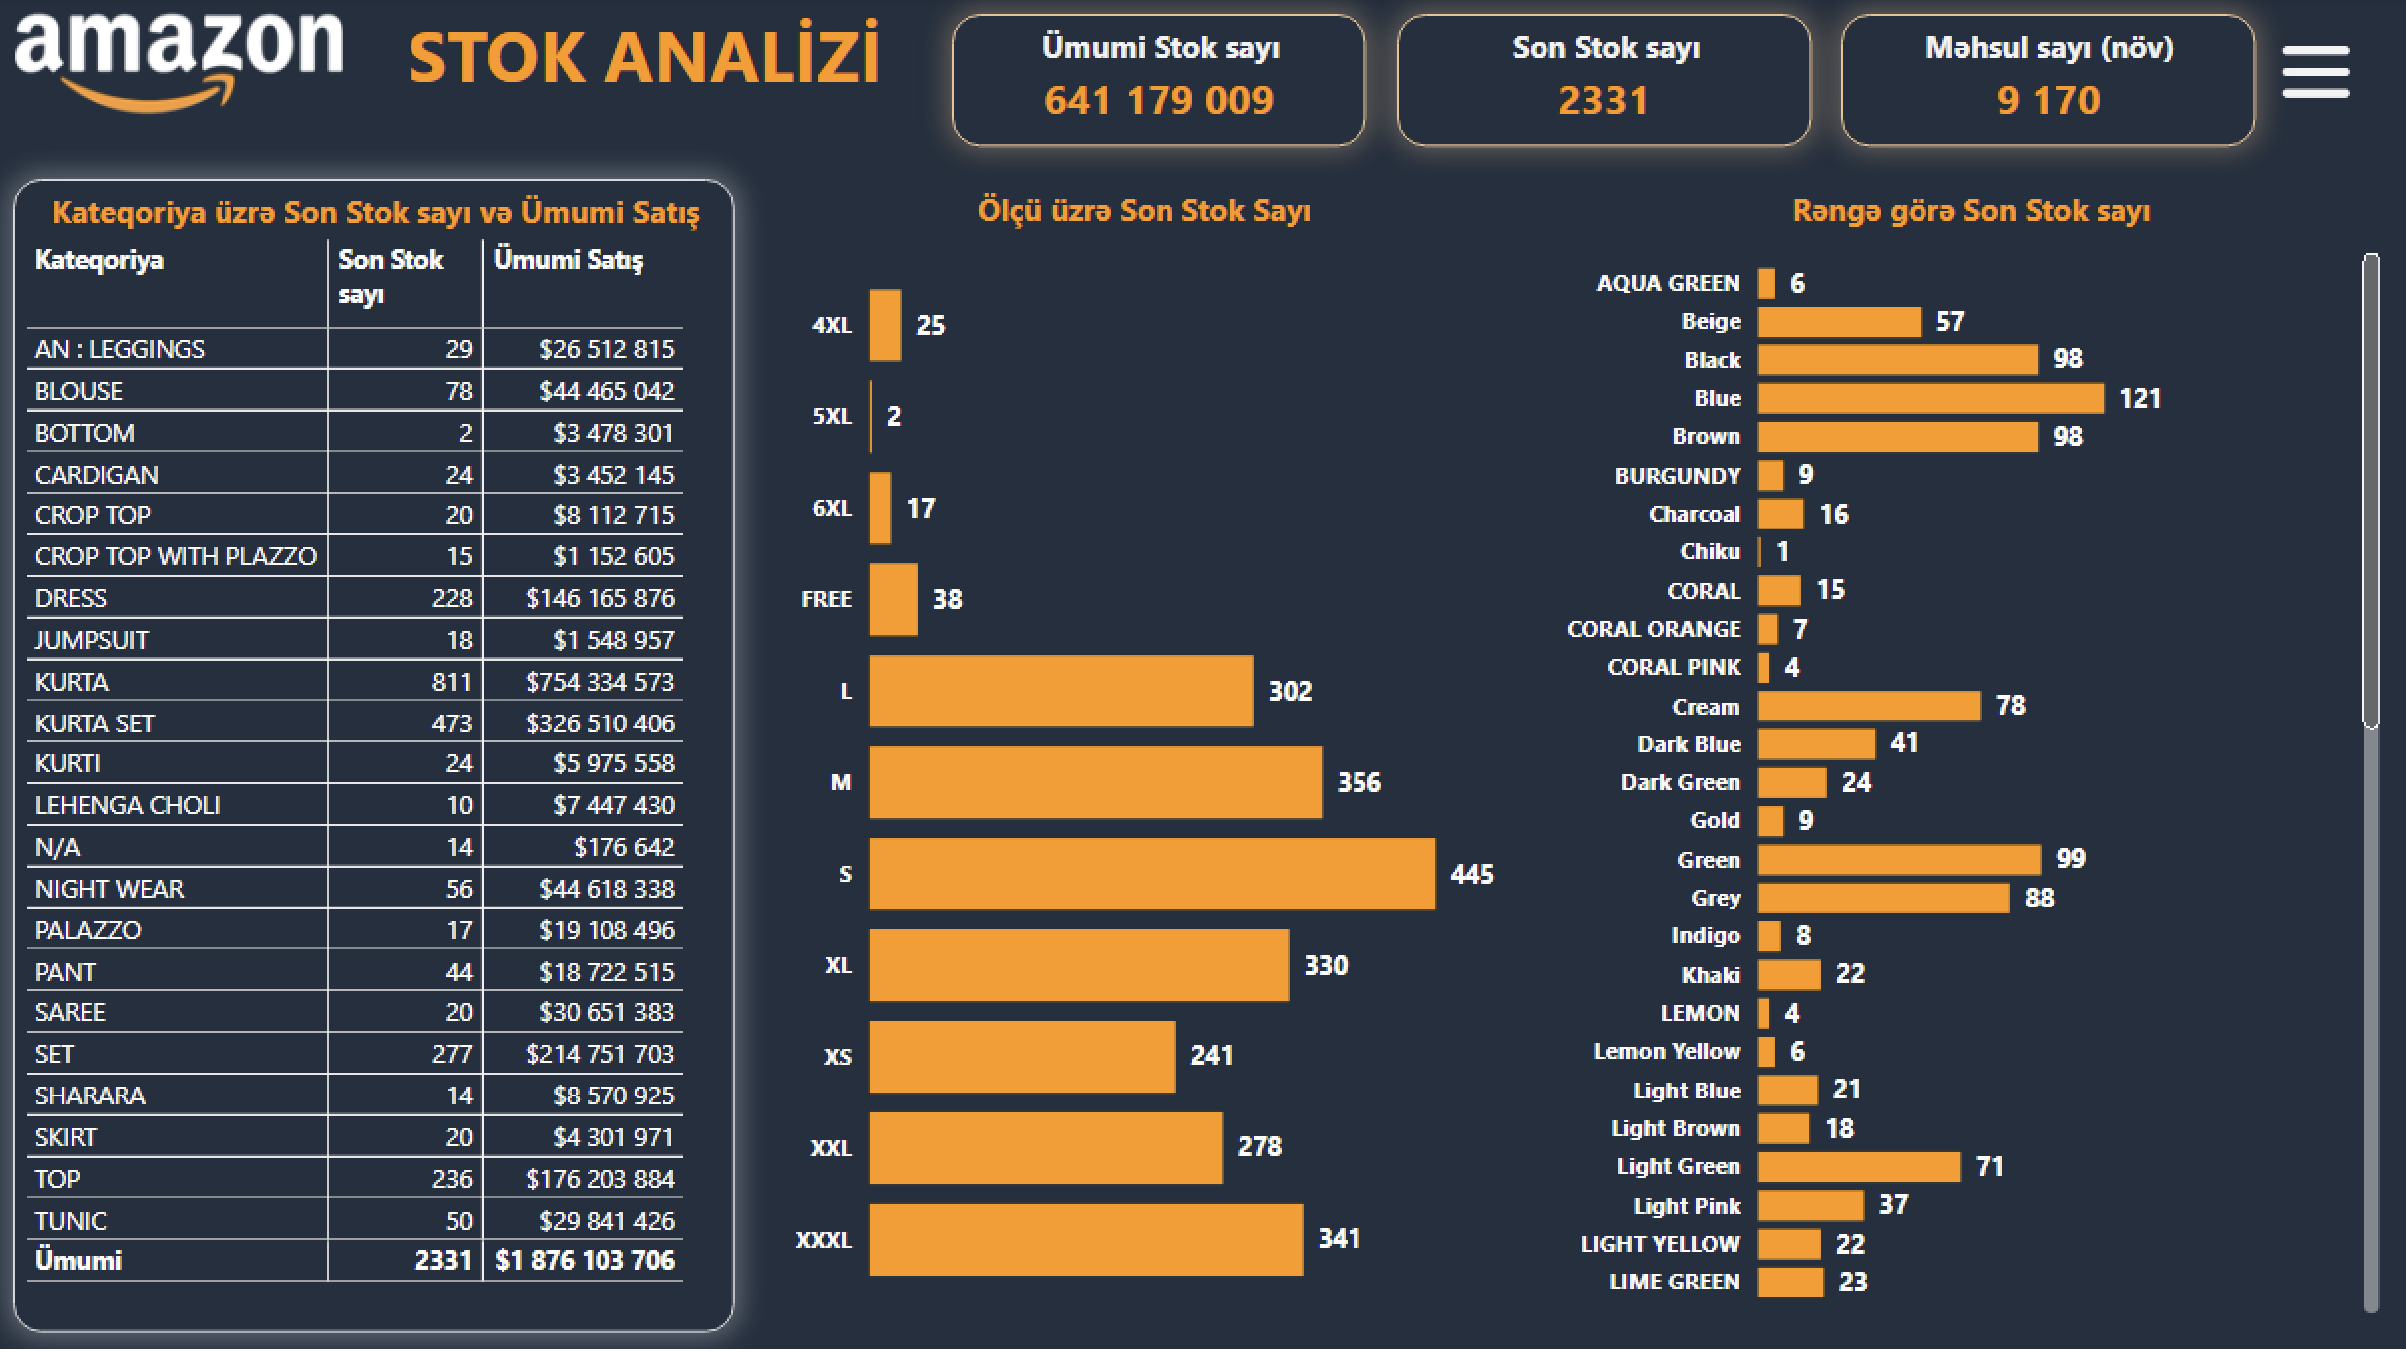

The page's visual inventory and layout, read from the dashboard file:
{"tool":"powerbi","page":{"name":"Stok","canvas":[1280,720],"ordinal":4},"visuals":[{"type":"image","box":[1210,20,44,40],"z":0},{"type":"shape","box":[0,0,191.5,61.9],"z":2000},{"type":"card","title":"Ümumi Stok sayı","fields":{"Values":["Stock Dax table.Ümumi Stock sayı"]},"box":[508,9.5,220.1,70.2],"z":3000},{"type":"card","title":"Son Stok sayı","fields":{"Values":["Stock Dax table.Son Stok sayı"]},"box":[744.1,9.5,220.1,70.2],"z":4000},{"type":"textbox","box":[197.2,0,295.2,60.1],"z":5000},{"type":"tableEx","title":"Kateqoriya üzrə Son Stok sayı və Ümumi Satış","fields":{"Values":["Amazon_sku.Kateqoriya","Stock Dax table.son stok","DAX table.Ümumi Satış"]},"box":[9.9,97.3,383.4,611.8],"z":6000},{"type":"clusteredBarChart","title":"Ölçü üzrə Son Stok Sayı","fields":{"Category":["Amazon_sku.Ölçü"],"Y":["Stock Dax table.son stok"]},"box":[419.4,97.3,382,611.8],"z":7000},{"type":"card","title":"Məhsul sayı (növ)","fields":{"Values":["Stock Dax table.Məhsul Stok Sayı - növ"]},"box":[980.2,9.5,220.1,70.2],"z":8000},{"type":"clusteredBarChart","title":"Rəngə görə Son Stok sayı","fields":{"Category":["Amazon_sku.Rəng"],"Y":["Stock Dax table.son stok"]},"box":[827.5,97.3,442.6,611.8],"z":10000}]}

Visuals, with their boxes in screenshot pixels (x1, y1, x2, y2), scaled from the page's 1280x720 canvas onto the 2406x1352 screenshot:
image: 2274,38,2357,113
shape: 0,0,360,116
"Ümumi Stok sayı" card: 955,18,1369,150
"Son Stok sayı" card: 1399,18,1812,150
textbox: 371,0,926,113
"Kateqoriya üzrə Son Stok sayı və Ümumi Satış" tableEx: 19,183,739,1332
"Ölçü üzrə Son Stok Sayı" clusteredBarChart: 788,183,1506,1332
"Məhsul sayı (növ)" card: 1842,18,2256,150
"Rəngə görə Son Stok sayı" clusteredBarChart: 1555,183,2387,1332
